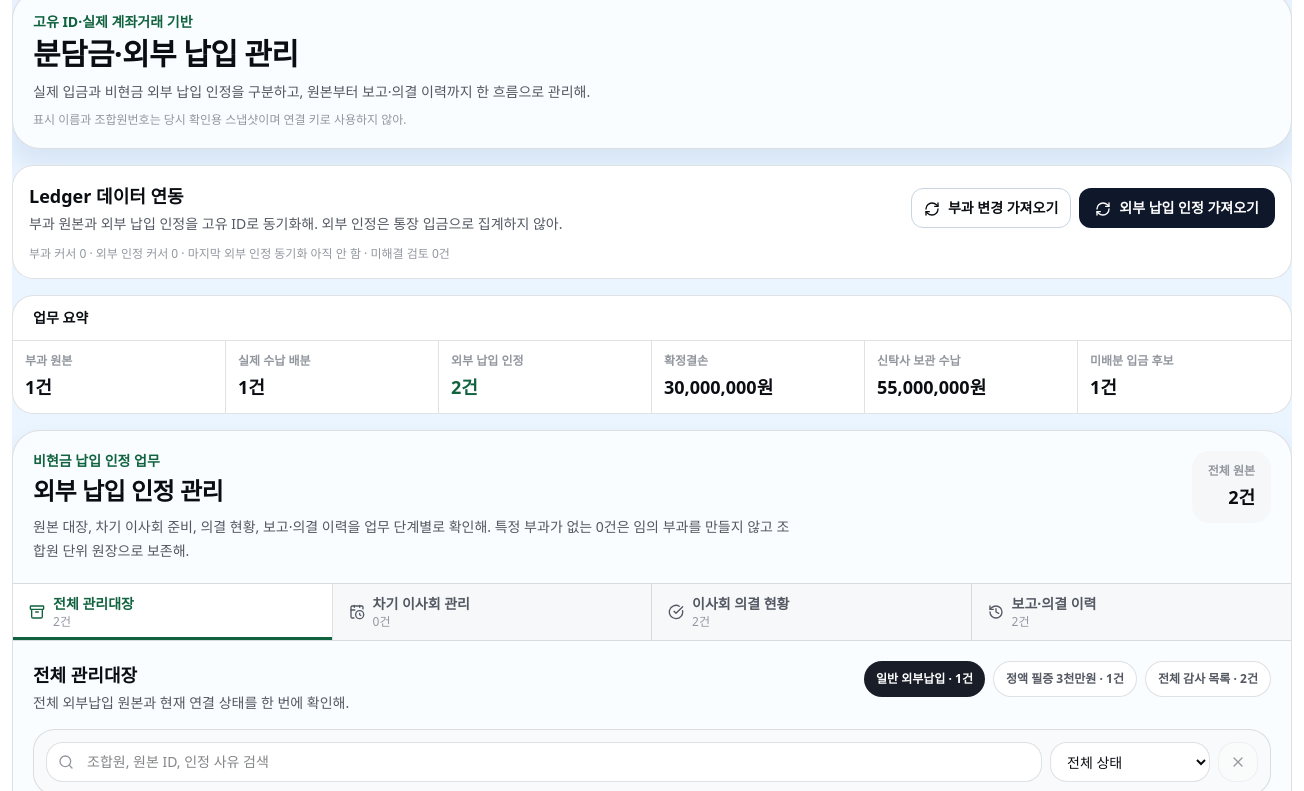
Test case: collection ledger page › separates Dongil fixed certificates from general external recognitions without overlap
The width and height of the screenshot is (1304, 791).
expect the text "정액 필증 조합원" is not shown: met
Click the tab "정액 필증 3천만원 · 1건" at (1065, 679), box [993,661,1137,697]
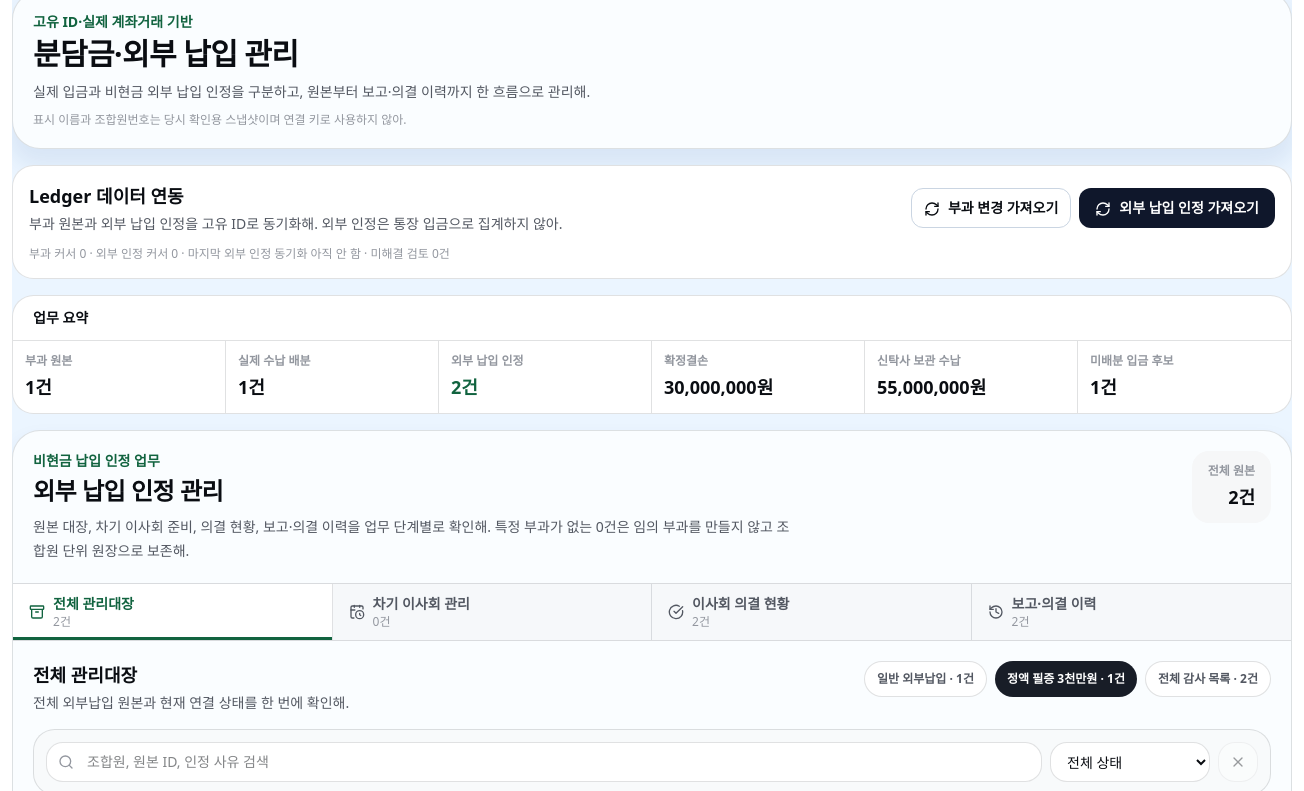
Click the tab "전체 감사 목록 · 2건" at (1208, 679), box [1145,661,1271,697]
(page scrolled)
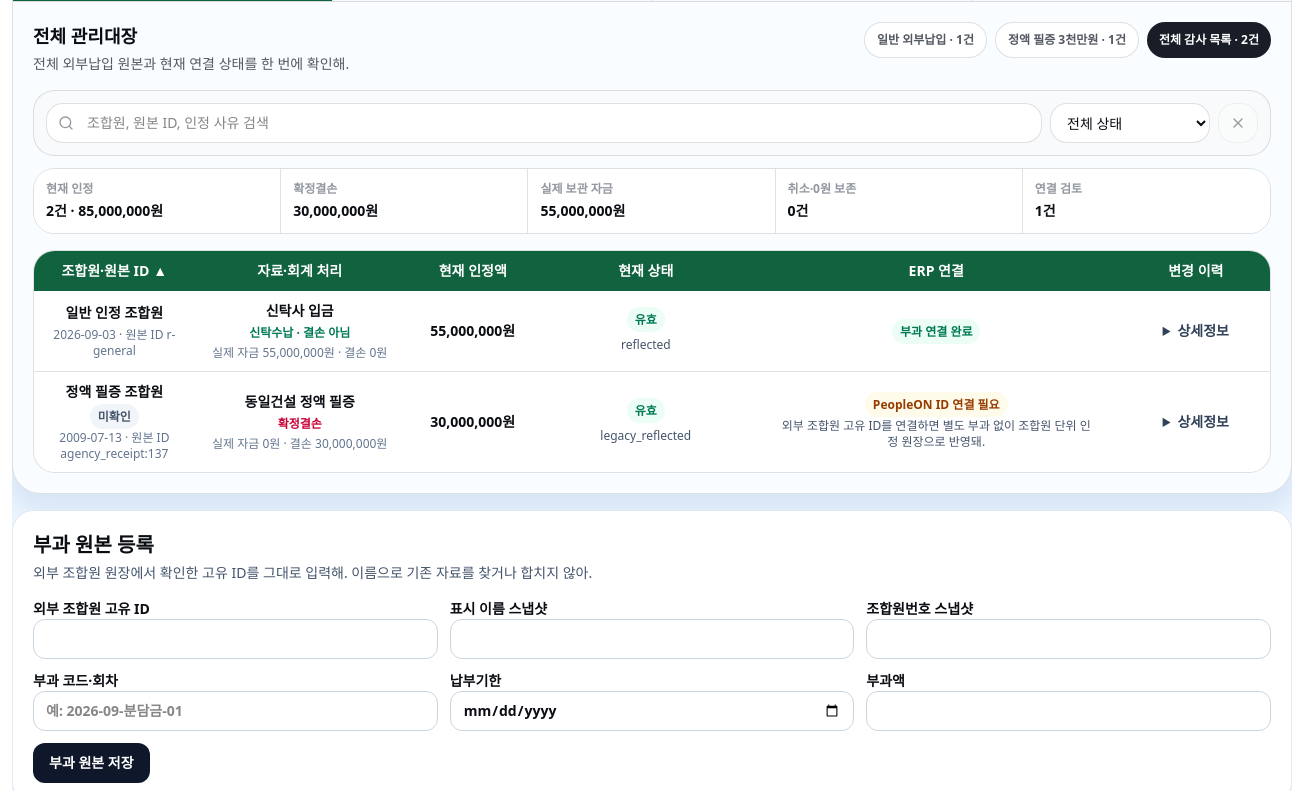
expect the text "정액 필증 조합원" is shown: met, box [66,382,163,401]
expect the text "일반 인정 조합원" is shown: met, box [66,303,163,322]
